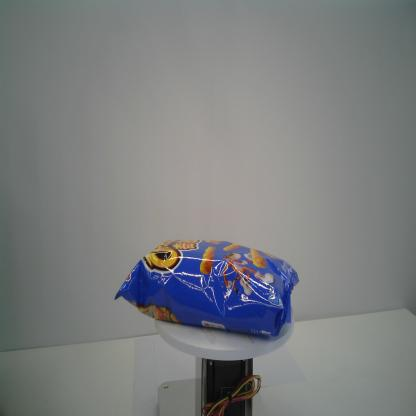Puffed Food: (114, 238, 299, 337)
